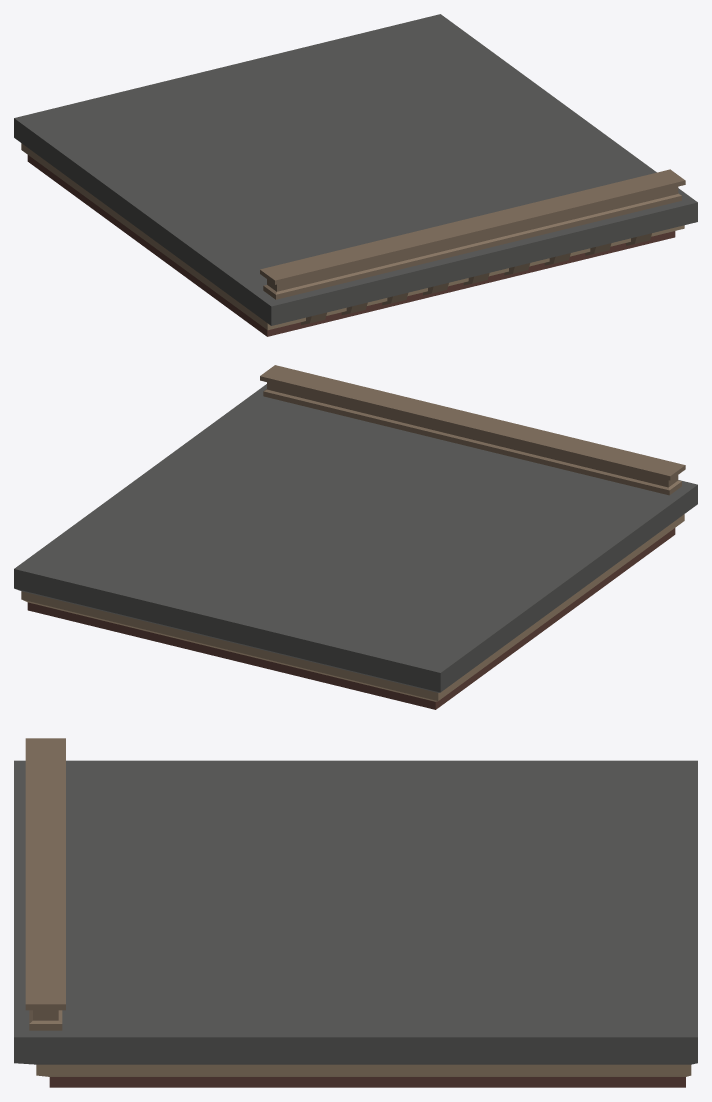
File: SM_Bld_Apartment_Roof_02.obj
3 renders of one model, top to bottom at view 1: azimuth 30°, elevation 25°; view 2: azimuth 150°, elevation 25°; view 3: azimuth 270°, elevation 25°, orthographic. The views are drawn at different scales.
Parts seen in each view (by area): view 1: SM_Bld_Apartment_Roof_02_0; view 2: SM_Bld_Apartment_Roof_02_0; view 3: SM_Bld_Apartment_Roof_02_0.
Part boxes in pixels (x1=…): SM_Bld_Apartment_Roof_02_0: x1=14, y1=14, x2=697, y2=336; SM_Bld_Apartment_Roof_02_0: x1=14, y1=365, x2=697, y2=709; SM_Bld_Apartment_Roof_02_0: x1=14, y1=738, x2=697, y2=1087.
Size of the model in its own units: 5.25 by 0.7435 by 5.49.
1 material, 1 textured.
